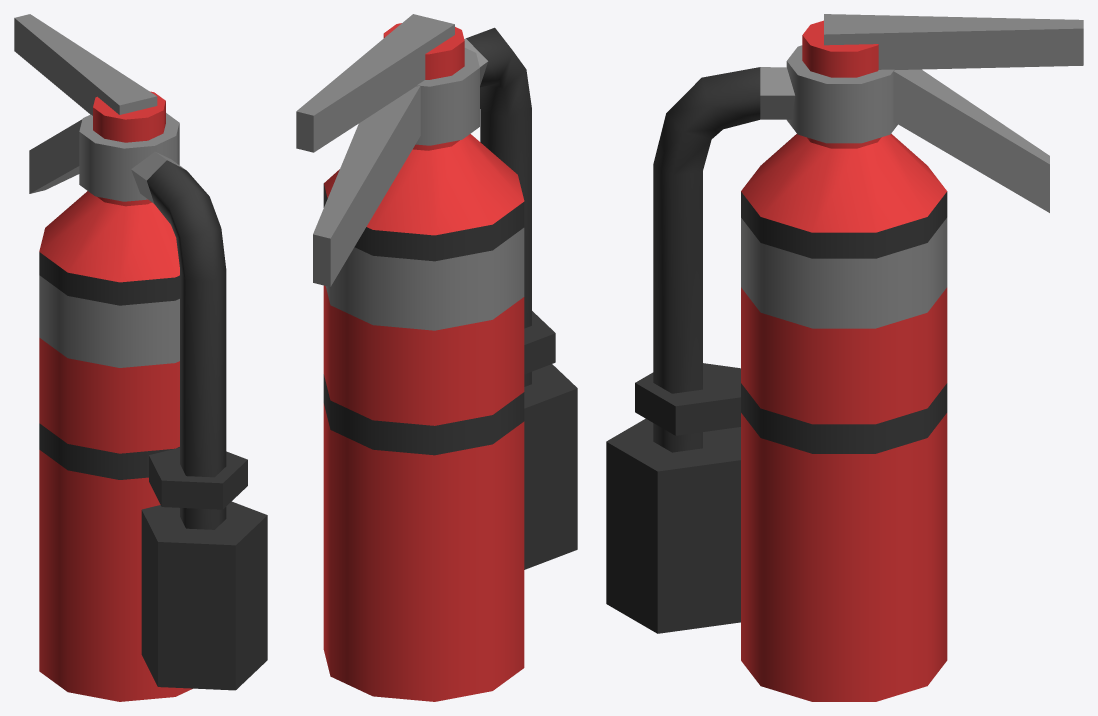
Rendered from Extinguisher.fbx.
3 views of the same model, side by side, from view 1: azimuth 30°, elevation 25°; view 2: azimuth 150°, elevation 25°; view 3: azimuth 270°, elevation 25° (orthographic). The views are drawn at different scales.
Visible parts, largest first — view 1: Extinguisher; view 2: Extinguisher; view 3: Extinguisher.
Boxes of the visible parts, left/top/right/bottom form: Extinguisher: left=14, top=14, right=267, bottom=701; Extinguisher: left=296, top=14, right=577, bottom=701; Extinguisher: left=606, top=14, right=1083, bottom=701.
Size of the model in its own units: 0.3942 by 0.162 by 0.5795.
